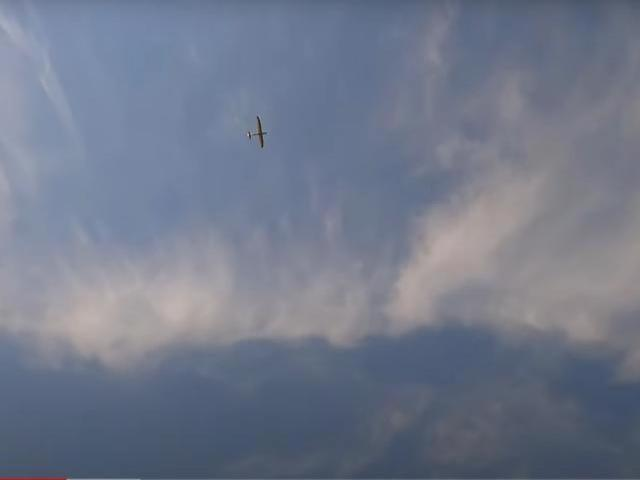iha: (245, 113, 270, 147)
